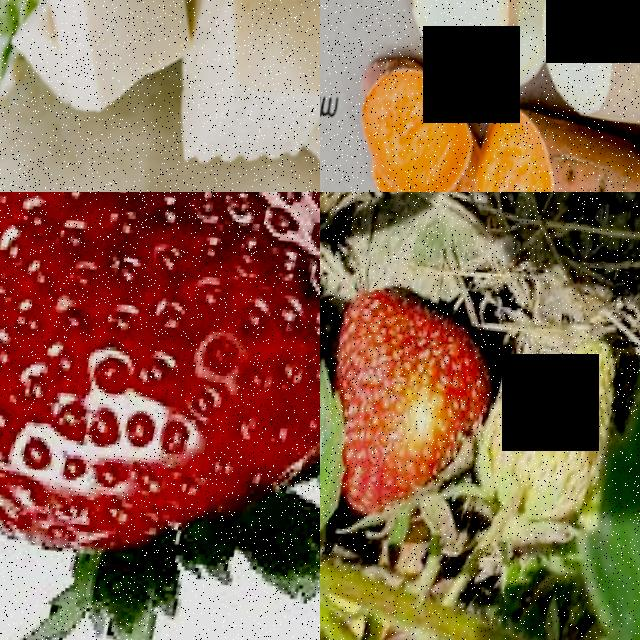strawberry: (0, 192, 320, 640), (342, 307, 508, 528), (474, 328, 627, 523)
sweet potato: (346, 53, 498, 192), (457, 107, 640, 192), (529, 0, 640, 136), (401, 0, 538, 69)
tofu: (176, 0, 320, 178), (52, 0, 210, 121), (0, 98, 175, 192)
